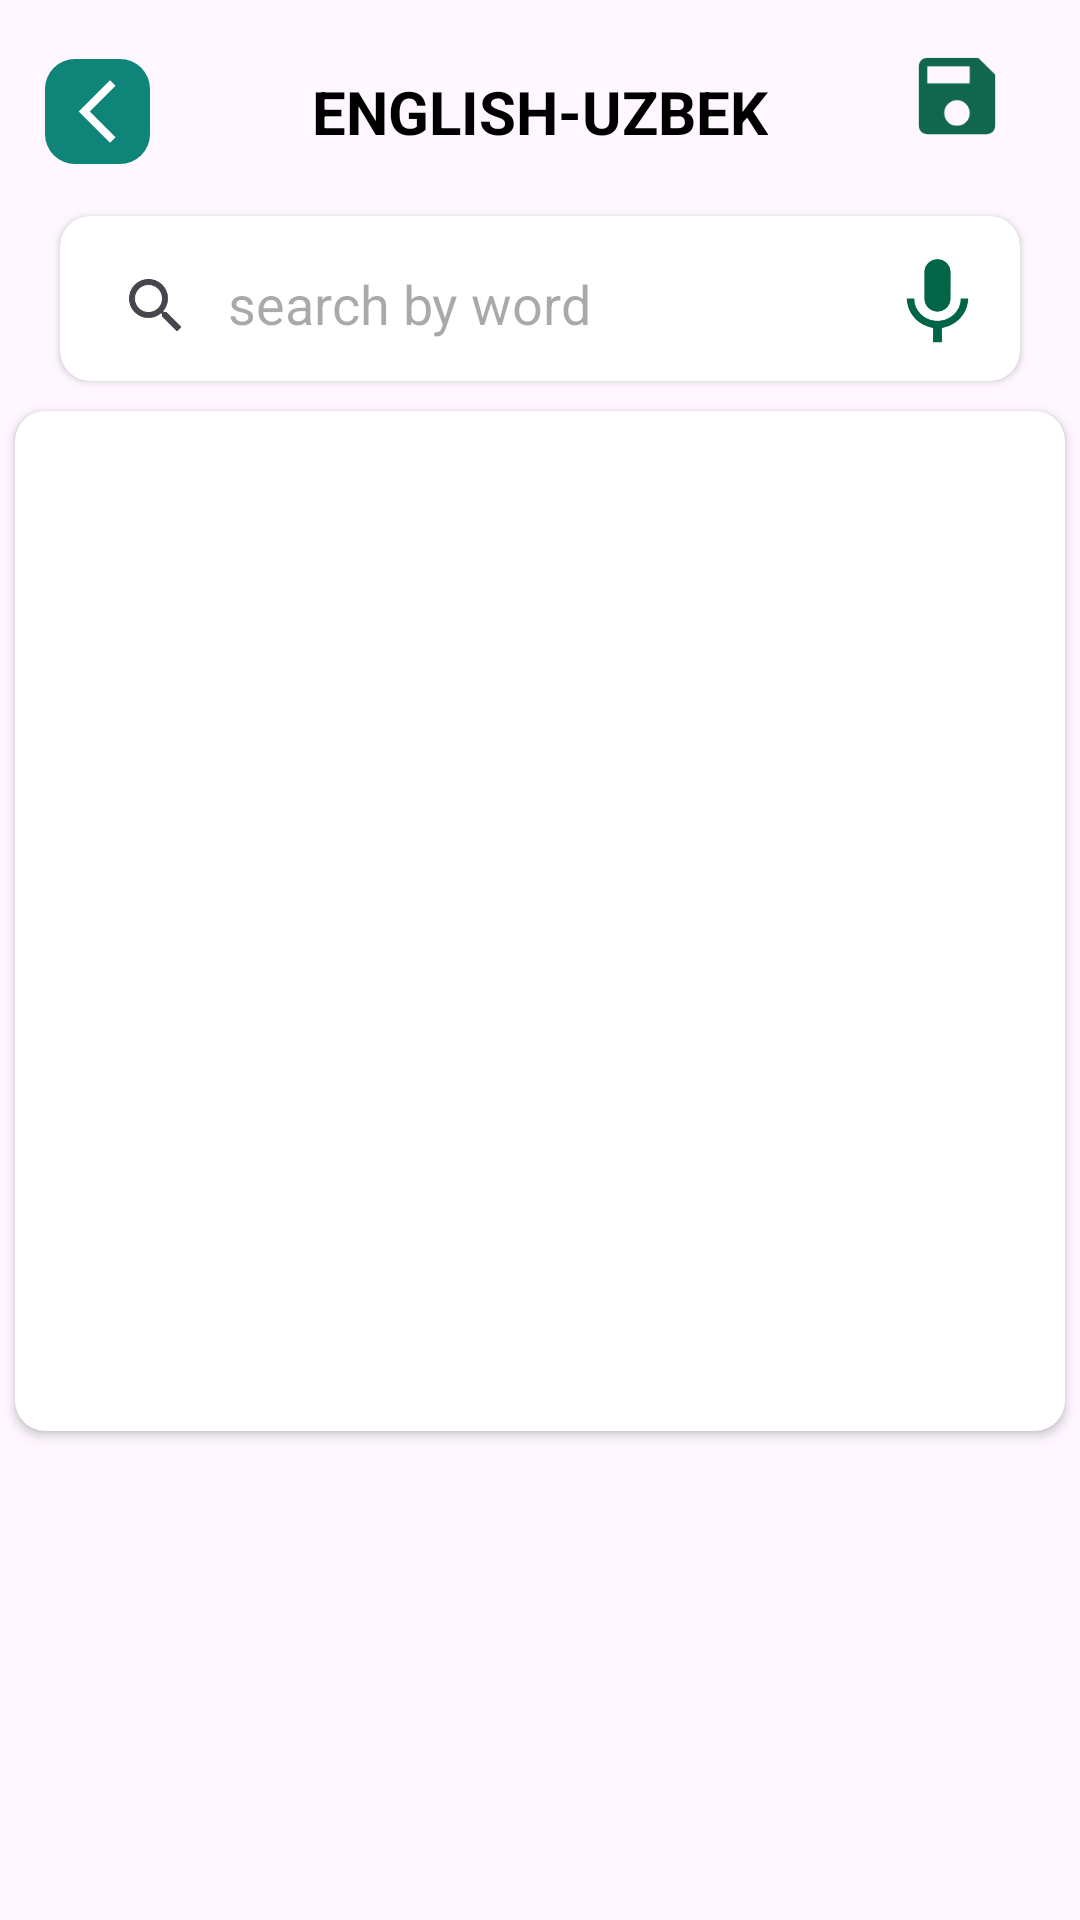

Named icons in this screenshot (1080*1920) and their bounding boxes, (x1, y1, x2, y2):
arrow back: (45, 59, 150, 164)
keyboard voice: (906, 259, 969, 343)
save: (918, 58, 996, 135)
